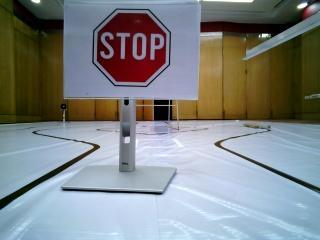stop: (62, 4, 193, 97)
